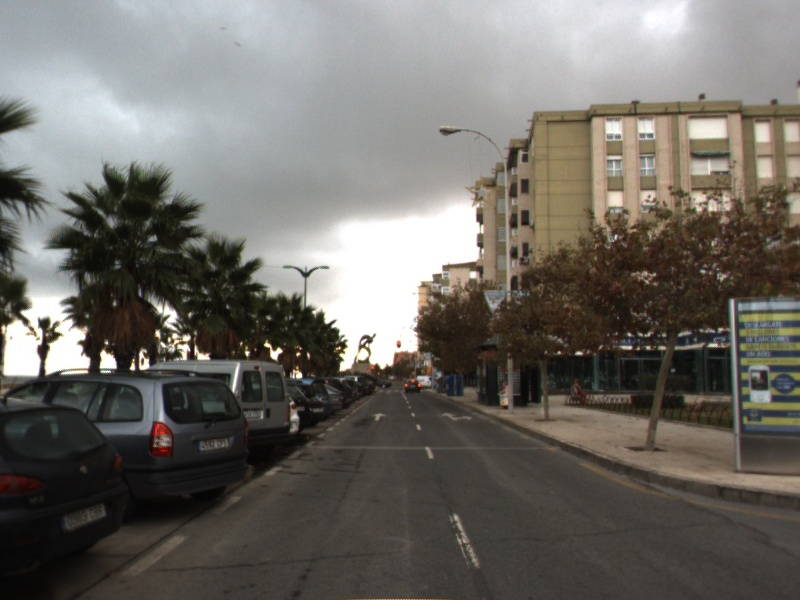STRAIGHT: (370, 411, 388, 422)
STRAIGHT_RIGHT: (440, 410, 475, 423)
